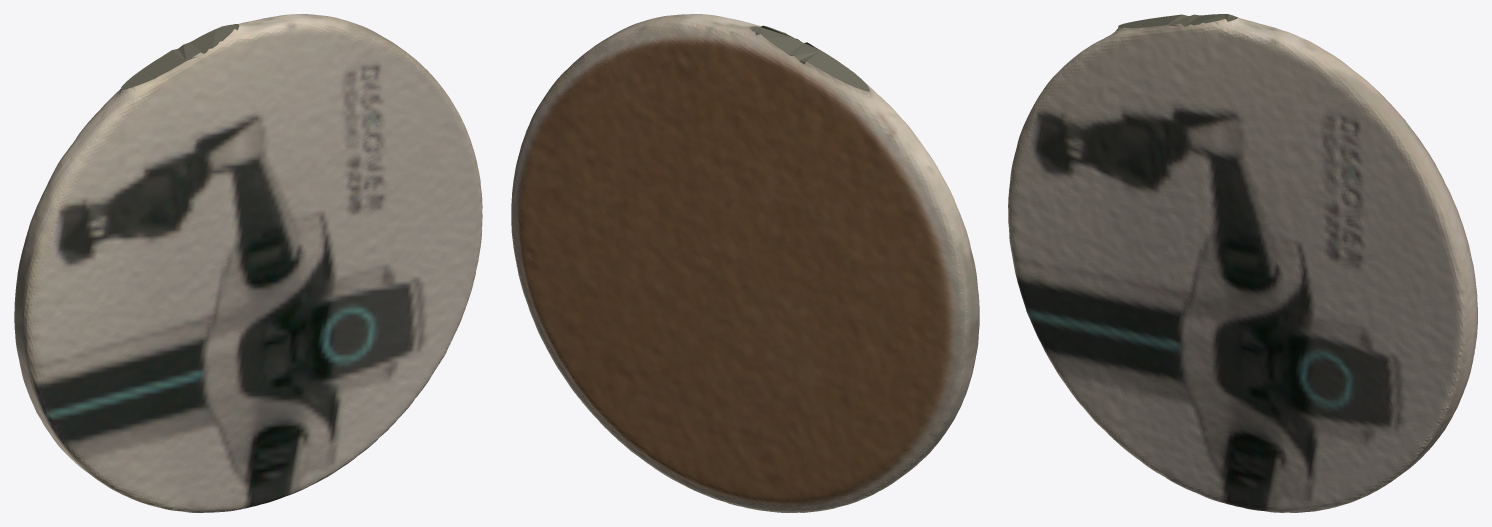
Rendered from second_prize.obj.
3 renders of one model, left to right at view 1: azimuth 30°, elevation 25°; view 2: azimuth 150°, elevation 25°; view 3: azimuth 330°, elevation 25°, orthographic.
Visible parts, largest first — view 1: second_prize; view 2: second_prize; view 3: second_prize.
Boxes of the visible parts, x1,y1,x2,y2 form: second_prize: (14, 14, 482, 512); second_prize: (511, 14, 979, 512); second_prize: (1008, 14, 1477, 512).
Bounding box in the file's own units: 0.1092 × 0.1092 × 0.00858.
Materials: 1 (1 with a texture image).
